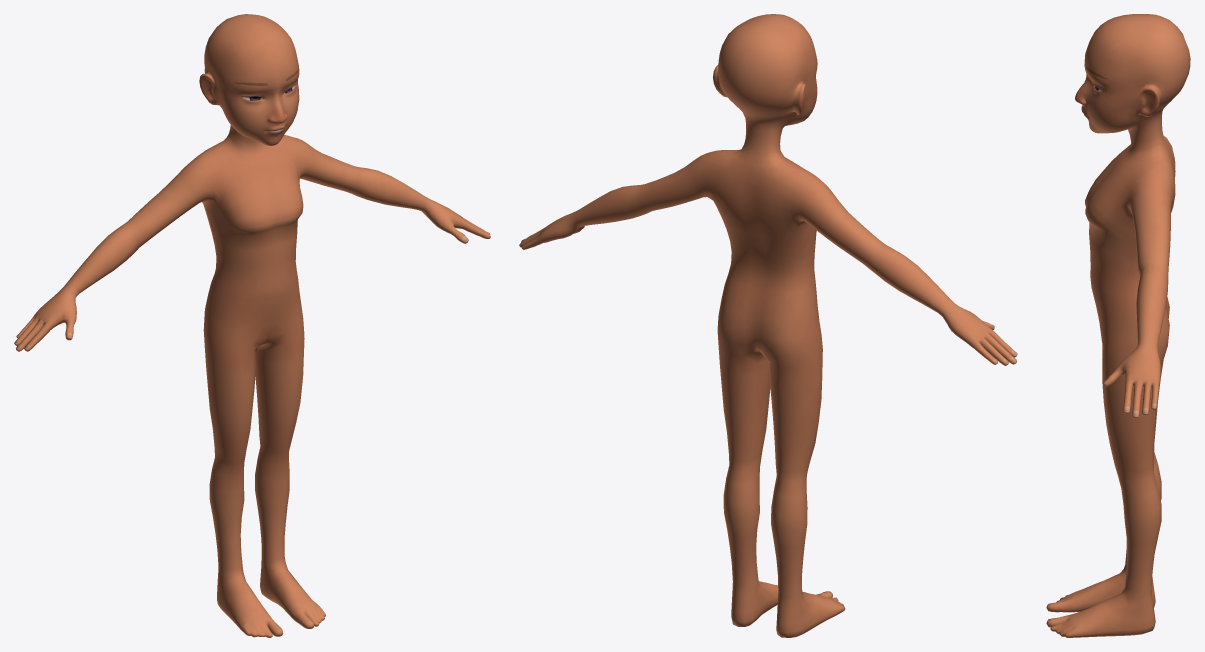
File: frame_0098.glb
3 renders of one model, left to right at view 1: azimuth 30°, elevation 25°; view 2: azimuth 150°, elevation 25°; view 3: azimuth 270°, elevation 25°, orthographic. The views are drawn at different scales.
Parts seen in each view (by area): view 1: frame_0098_head_geo; view 2: frame_0098_head_geo; view 3: frame_0098_head_geo.
Boxes of the visible parts, <box> form: frame_0098_head_geo: <box>14,14,490,637</box>; frame_0098_head_geo: <box>519,14,1017,637</box>; frame_0098_head_geo: <box>1046,14,1190,637</box>.
Size of the model in its own units: 1.28 by 1.5 by 0.3253.
3 materials, 3 textured.
